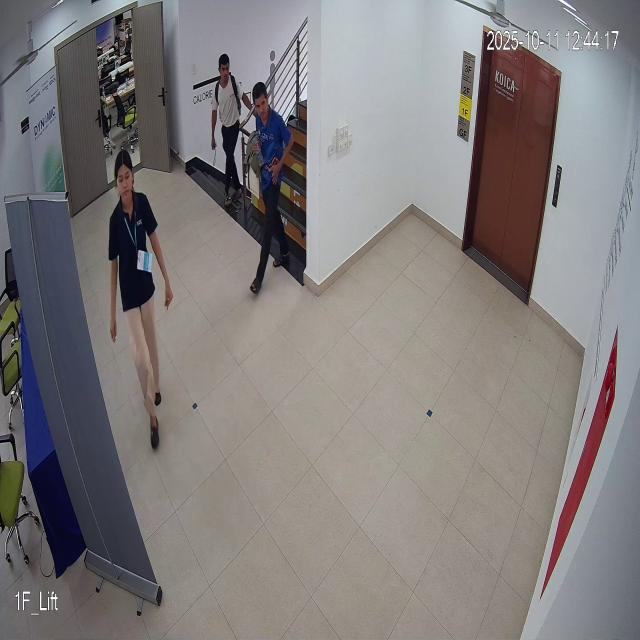face: (107, 145, 135, 207)
